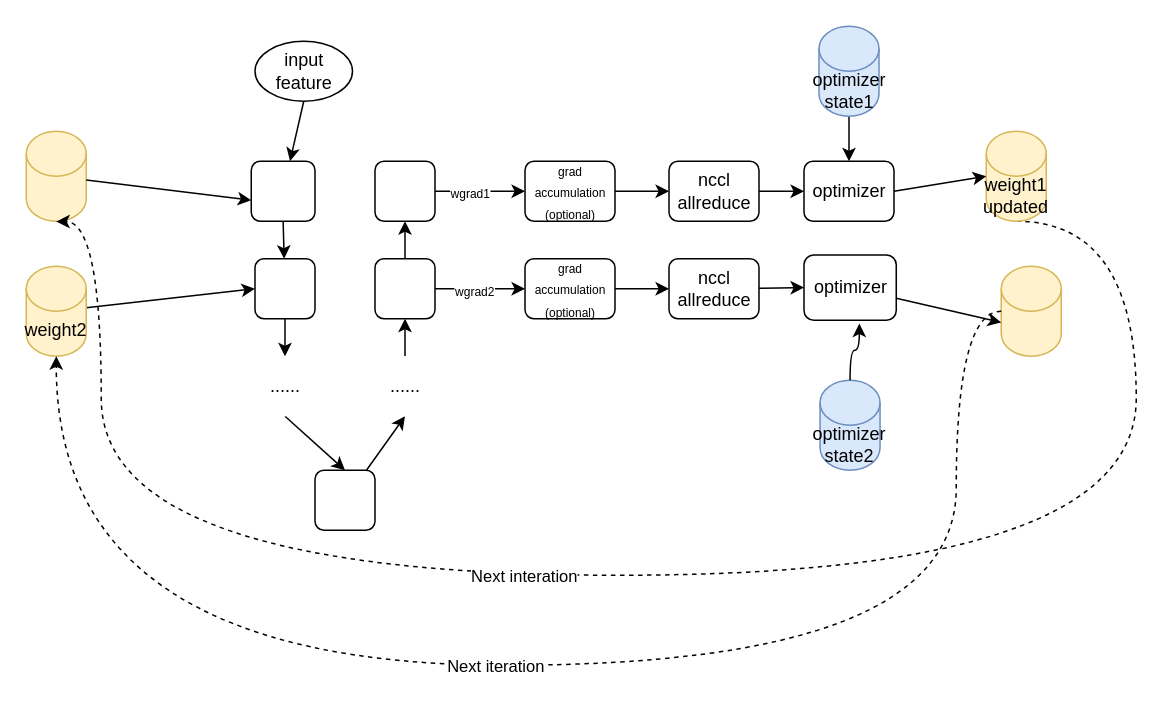
The diagram is 1164 pixels wide and 702 high, and some of its shapes have lost their labels. Each missing label, with the centre of its shape:
loss: point 344,499
OP1: point 282,190
OP1 bwd: point 404,190
OP2: point 284,288
OP2 bwd: point 404,288
weight1: point 55,175
weight2 updated: point 1030,310
